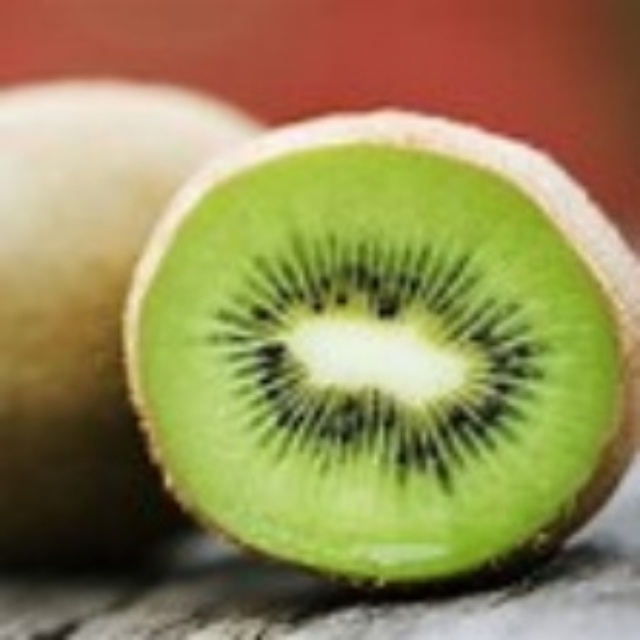kiwi: (125, 109, 639, 577)
